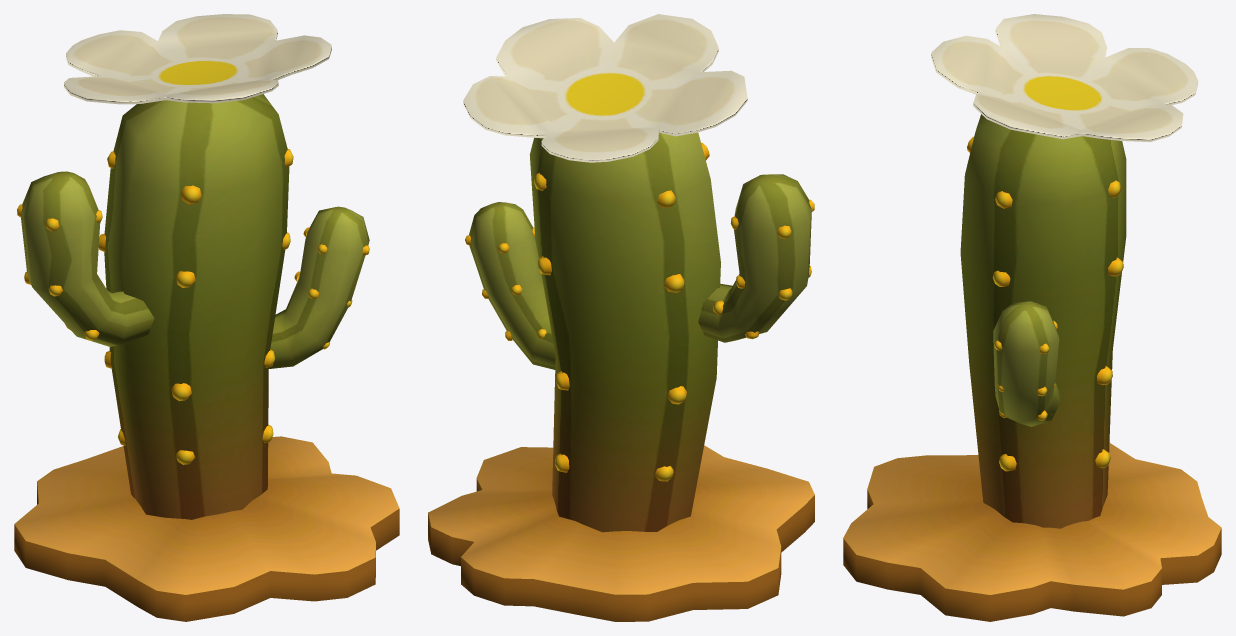
File: EndOfTheRoadOdysseyStatue.fbx
The picture shows the model from 3 angles, left to right: view 1: azimuth 30°, elevation 25°; view 2: azimuth 150°, elevation 25°; view 3: azimuth 270°, elevation 25°; orthographic projection.
Visible parts, largest first — view 1: EndOfTheRoadOdysseyStatue; view 2: EndOfTheRoadOdysseyStatue; view 3: EndOfTheRoadOdysseyStatue.
Part boxes in pixels (x1,y1,x2,y2): EndOfTheRoadOdysseyStatue: (14, 14, 399, 621); EndOfTheRoadOdysseyStatue: (428, 14, 814, 621); EndOfTheRoadOdysseyStatue: (843, 14, 1221, 621).
Size of the model in its own units: 16.11 by 21.72 by 15.4.
